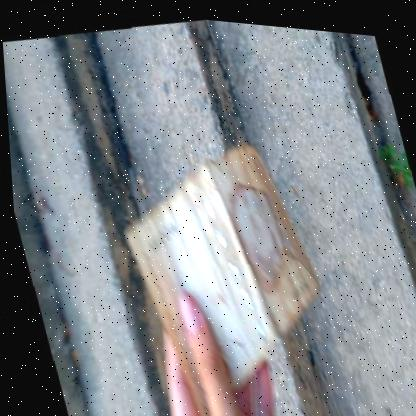five-front-vef: (100, 120, 348, 416)
